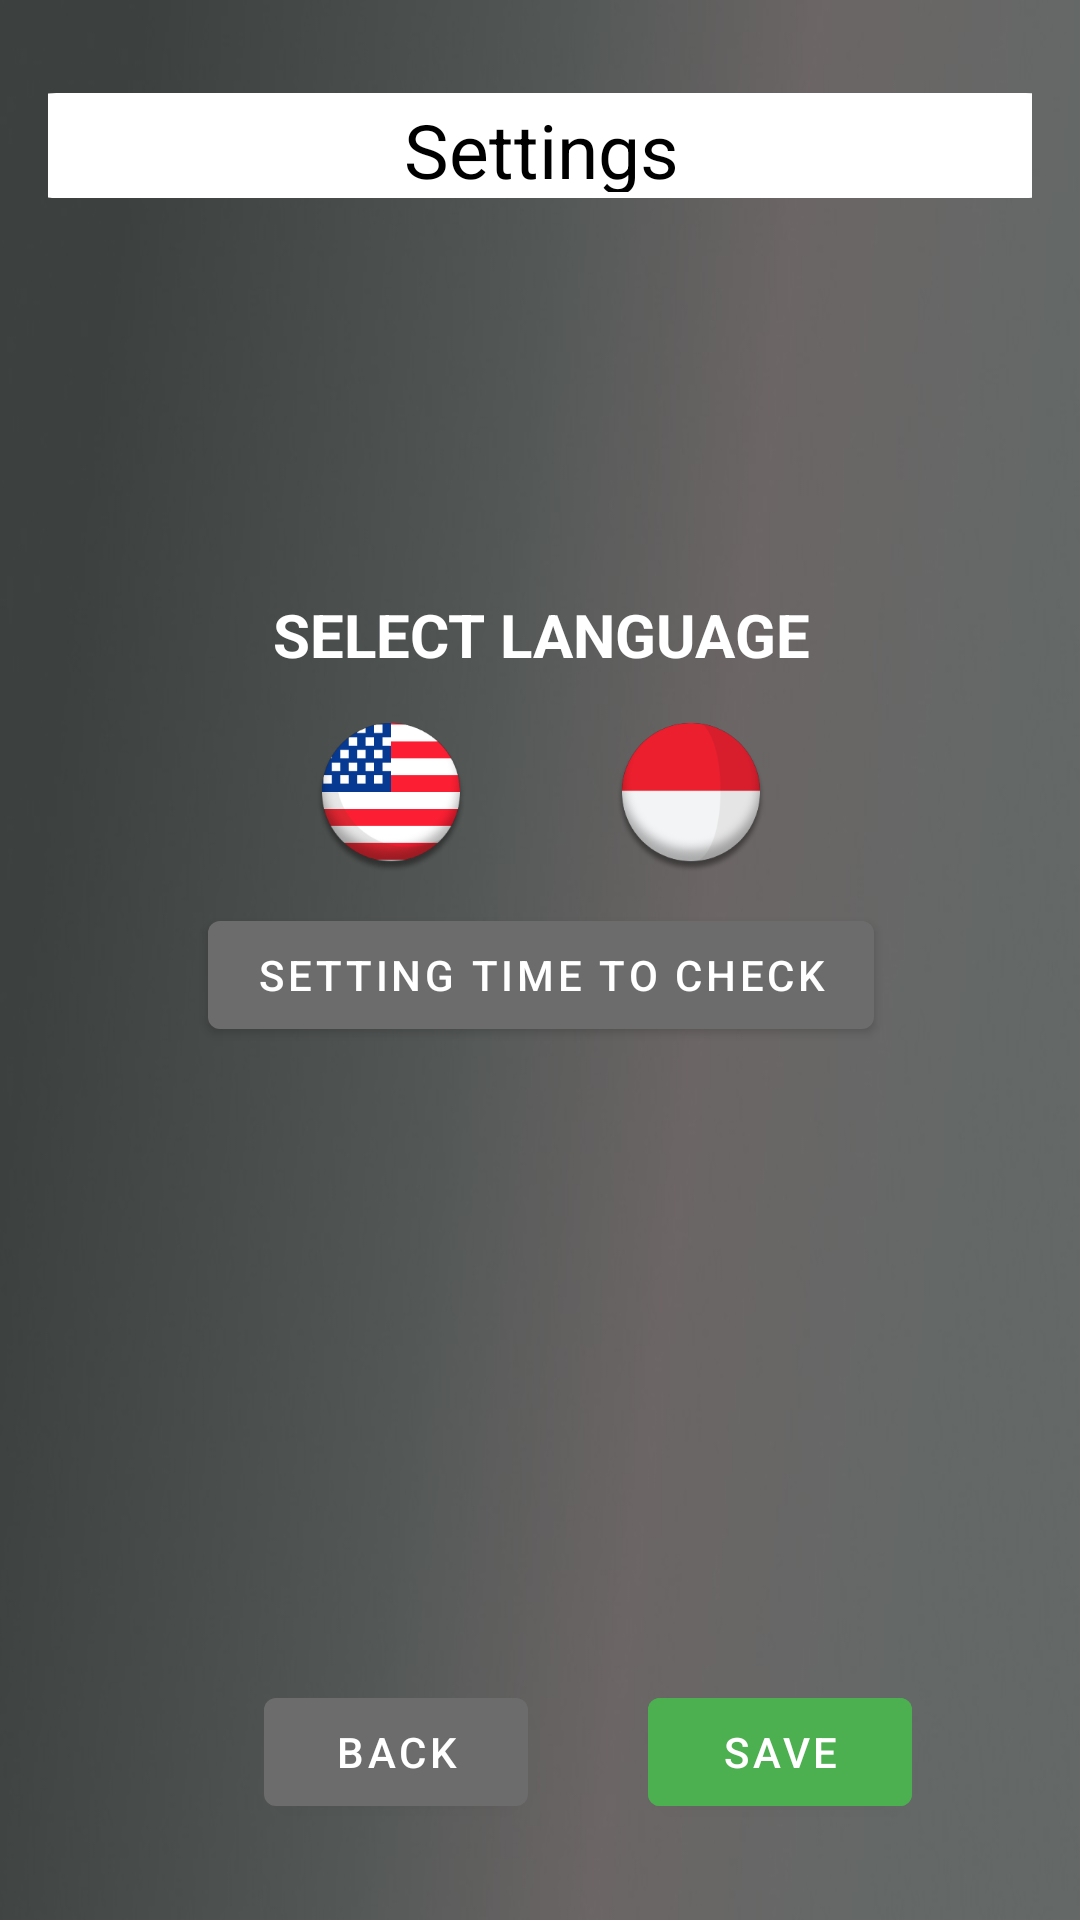

Screen size 1080 × 1920. Icon name, then its box in pixels as (x1, y1, x2, y2):
indonesia flag: (621, 723, 760, 867)
usa flag: (322, 723, 460, 866)
